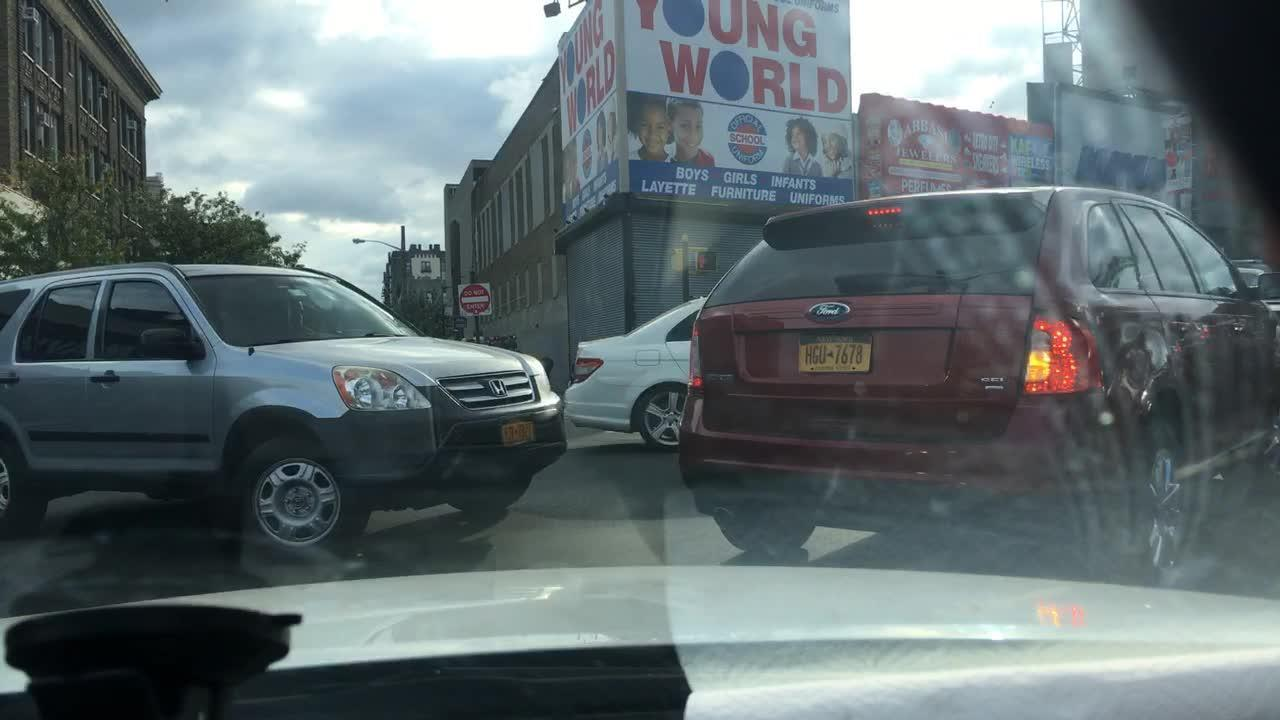Honda: (483, 373, 513, 402)
ford: (806, 294, 860, 326)
